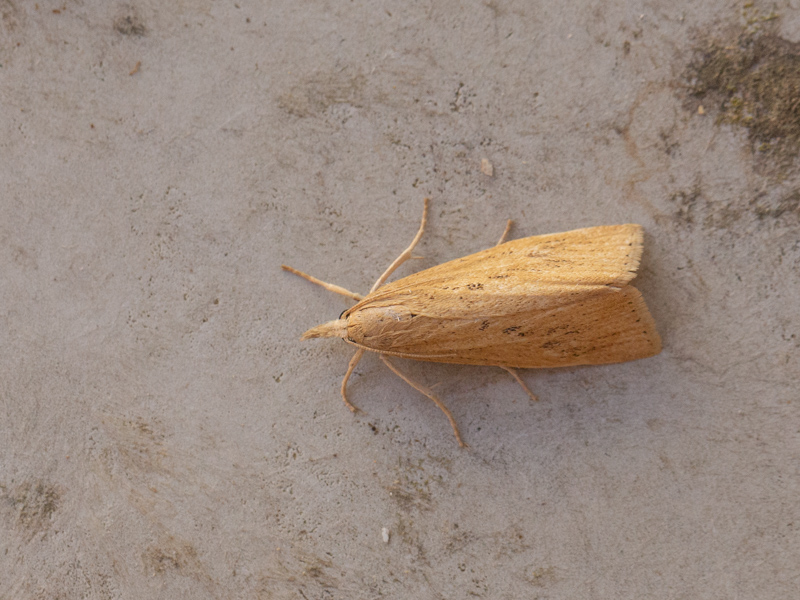Crambidae: (280, 204, 652, 454)
